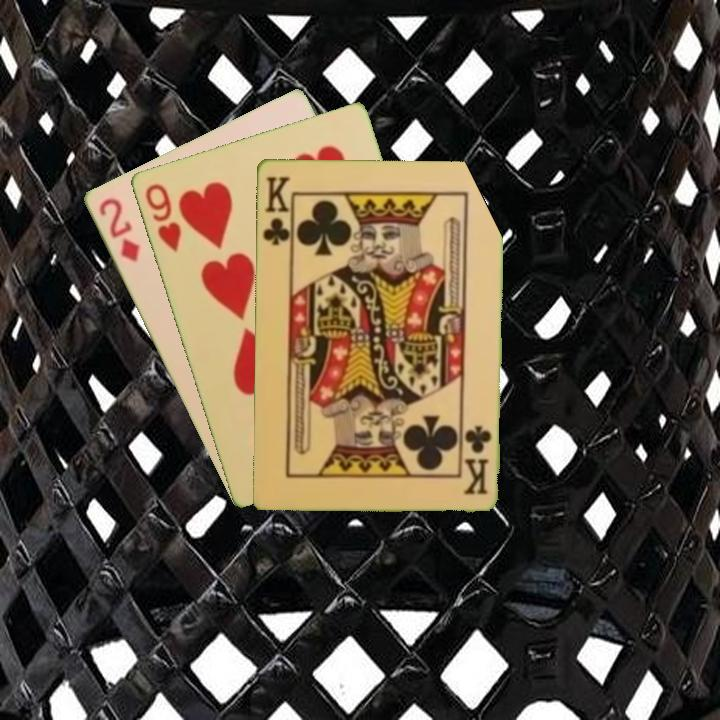2d: (94, 194, 142, 265)
9h: (141, 179, 184, 255)
Kc: (258, 172, 294, 253), (462, 422, 494, 497)
